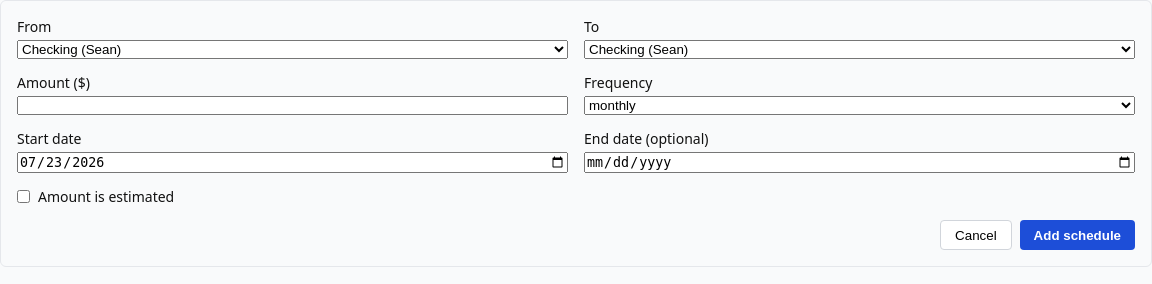
Test: ScheduleForm — add mode (with nodes) › shows terminateAtZero checkbox when destination is amortizing
The image size is (1152, 284).
Select "Car Loan (Sean)" in the dropdown labelled "To" at (860, 50), box [584, 40, 1135, 59]
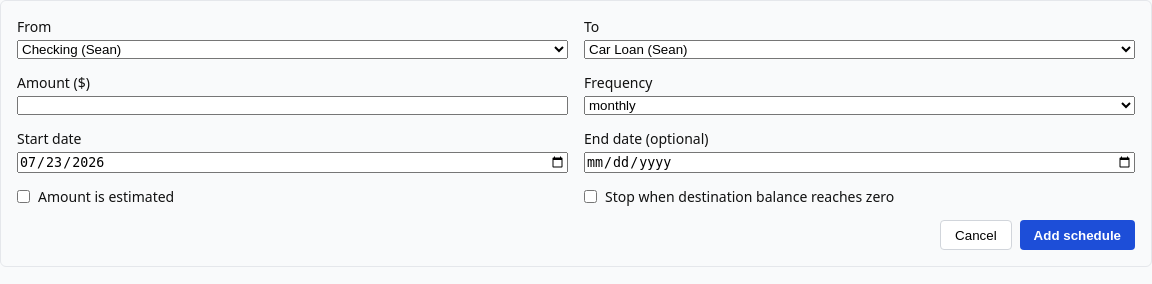
Expected: the text "Stop when destination balance reaches zero" is shown, [584, 187, 894, 206]
